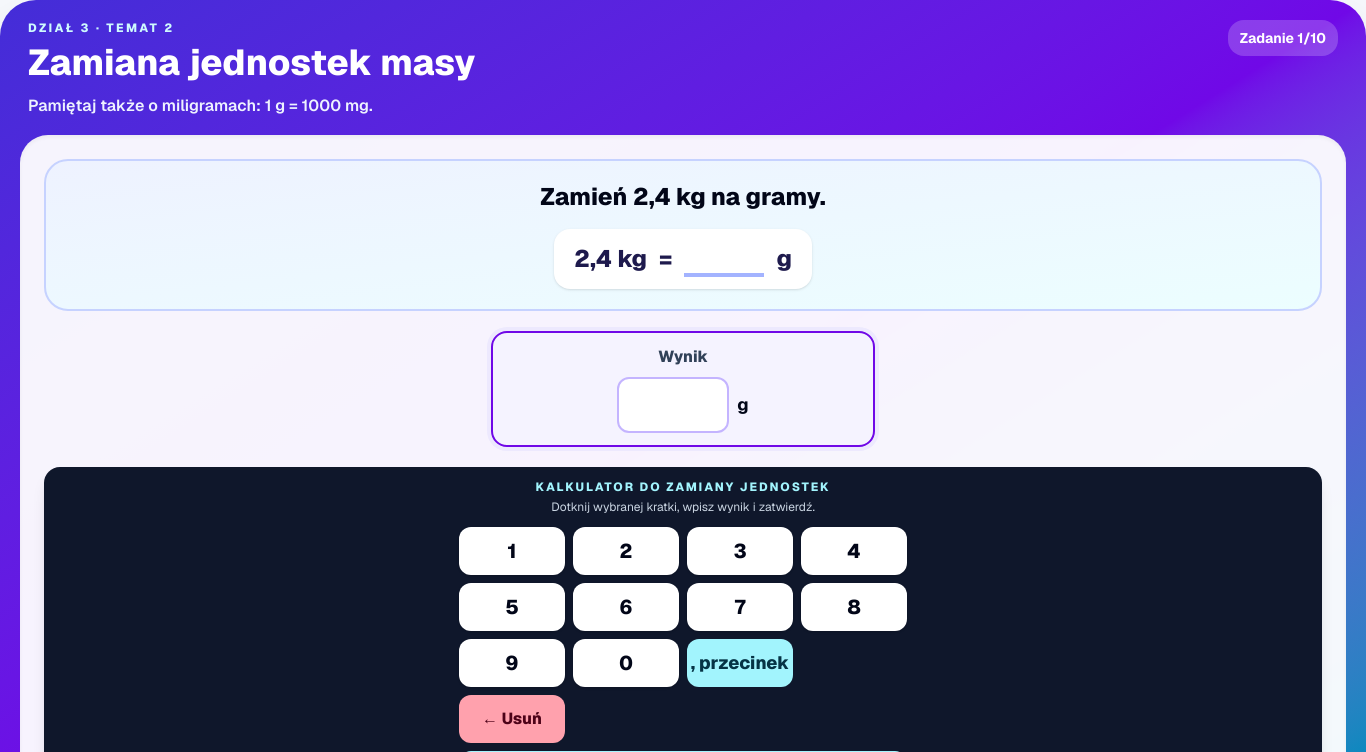
Test case: Jednostki długości i jednostki masy › pola liczbowe wyłączają klawiaturę urządzenia i używają klawiatury lekcji
Click the button "2" at {"x": 626, "y": 551}, box [573,527,679,575]
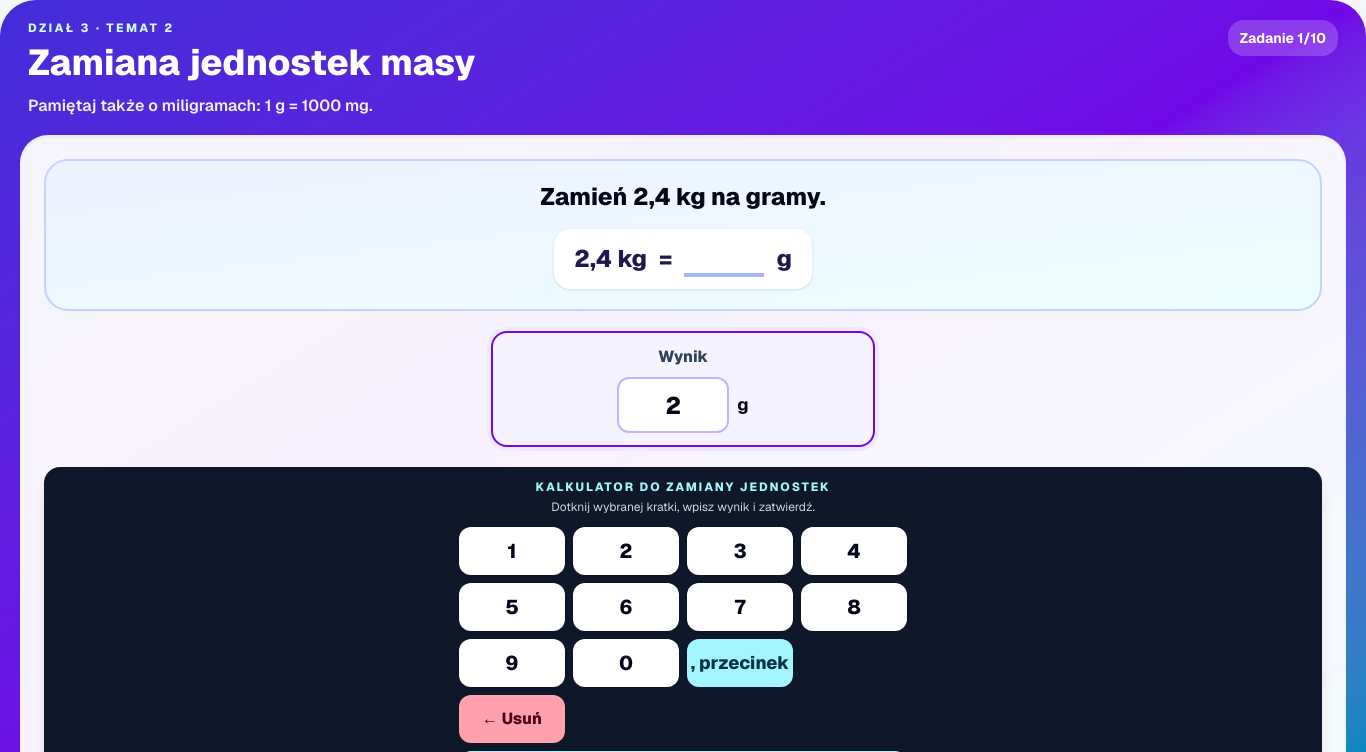
Click the button "4" at {"x": 854, "y": 551}, box [801,527,907,575]
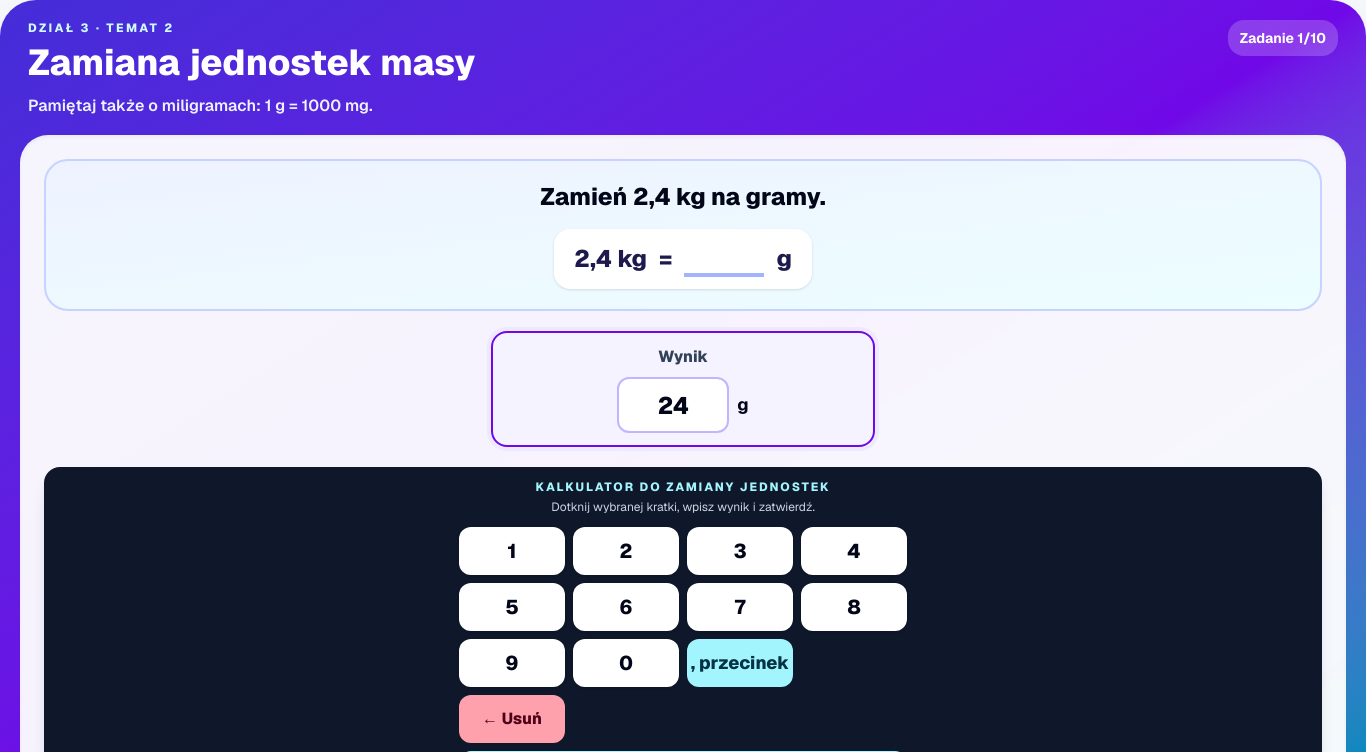
Click the button "0" at {"x": 626, "y": 663}, box [573,639,679,687]
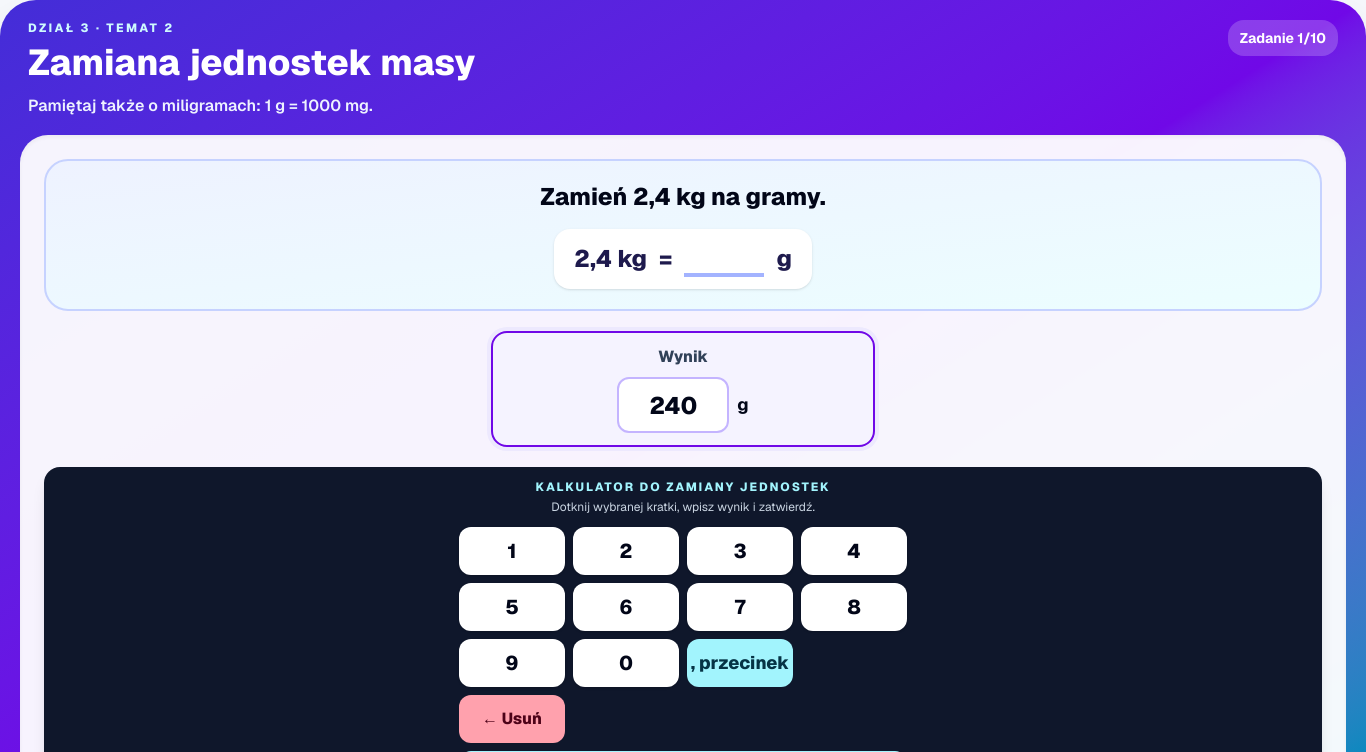
Click the button "0" at {"x": 626, "y": 663}, box [573,639,679,687]
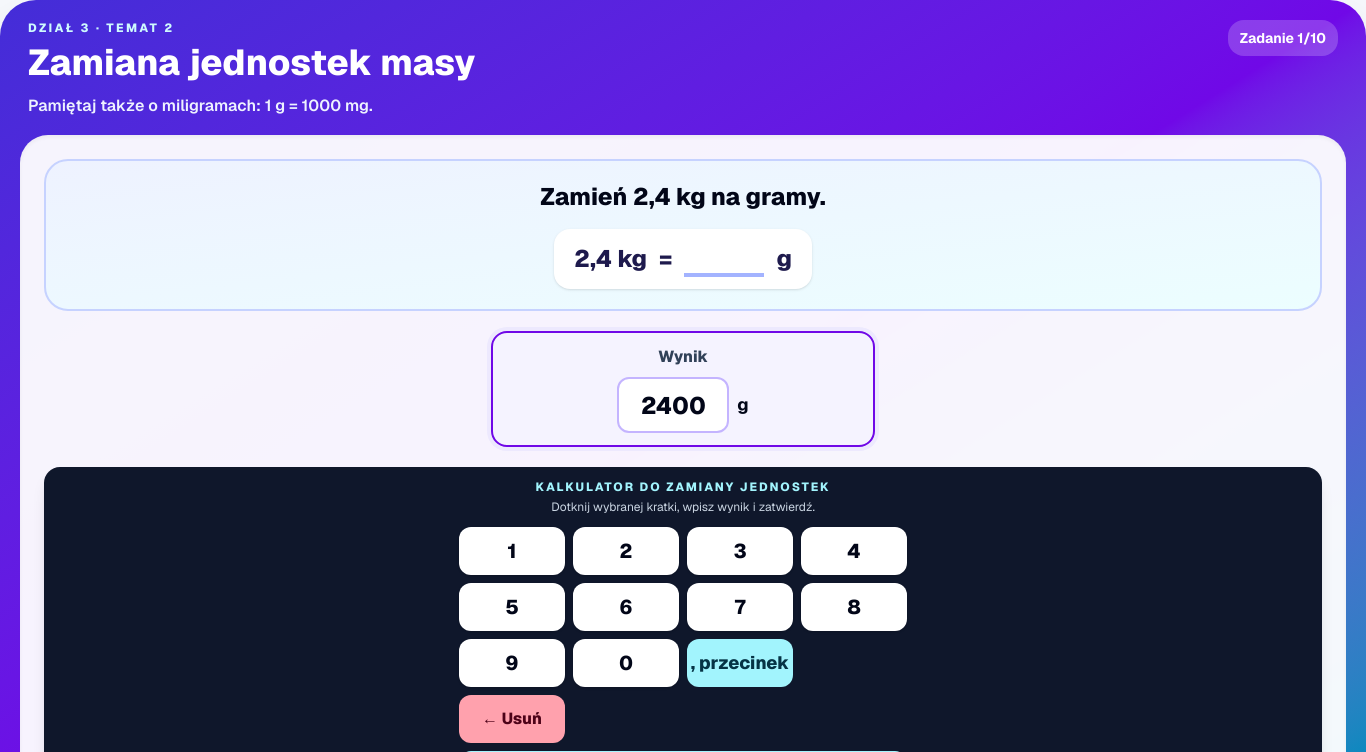
Expected: the field labelled "Wynik" holds "2400", [617,377,729,433]
